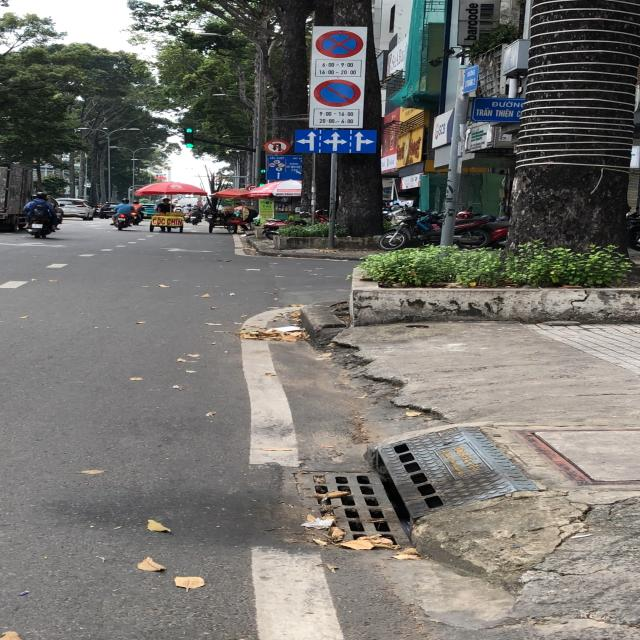Bien bao cam do xe: (310, 77, 362, 112)
Bien bao cam dung xe va do xe: (314, 29, 366, 59)
Bien bao cam quay dau xe: (265, 138, 296, 156)
